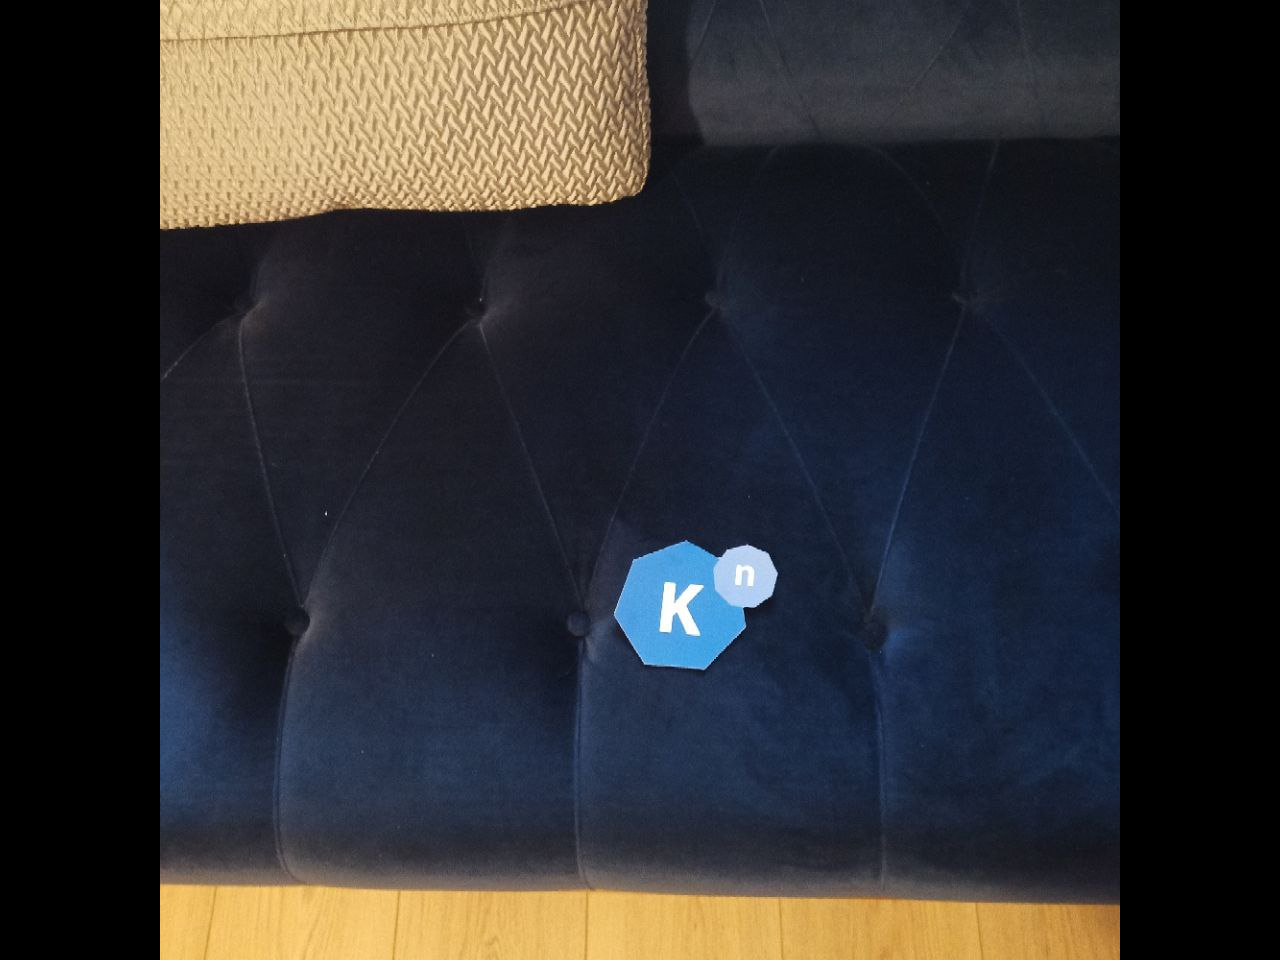knative: (612, 538, 780, 671)
